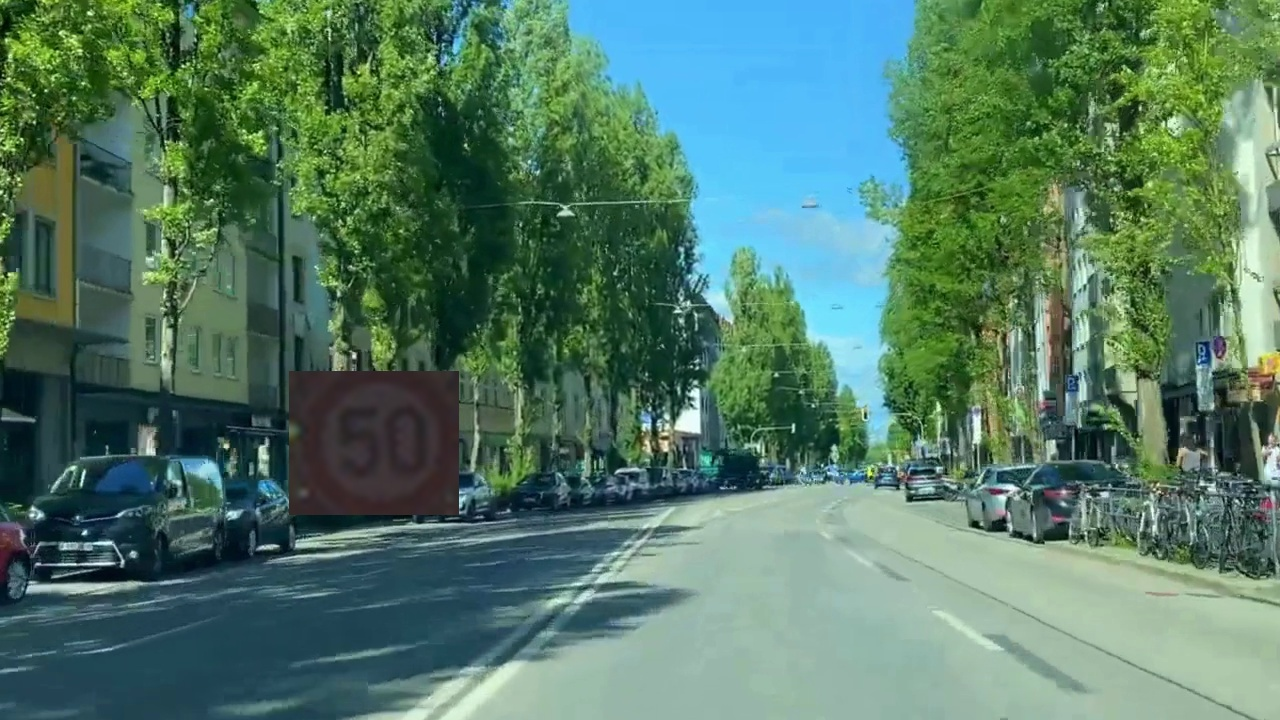Speed 50: (289, 371, 459, 515)
